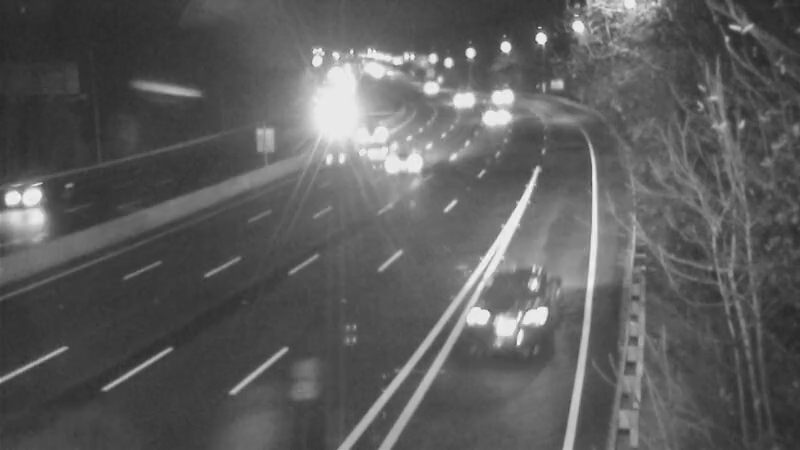vehicle: (454, 268, 564, 378), (331, 111, 411, 191), (363, 125, 443, 205), (1, 158, 77, 238), (405, 63, 455, 113), (478, 71, 528, 121), (437, 73, 487, 123), (462, 99, 512, 149), (354, 99, 404, 149), (306, 88, 356, 138)
